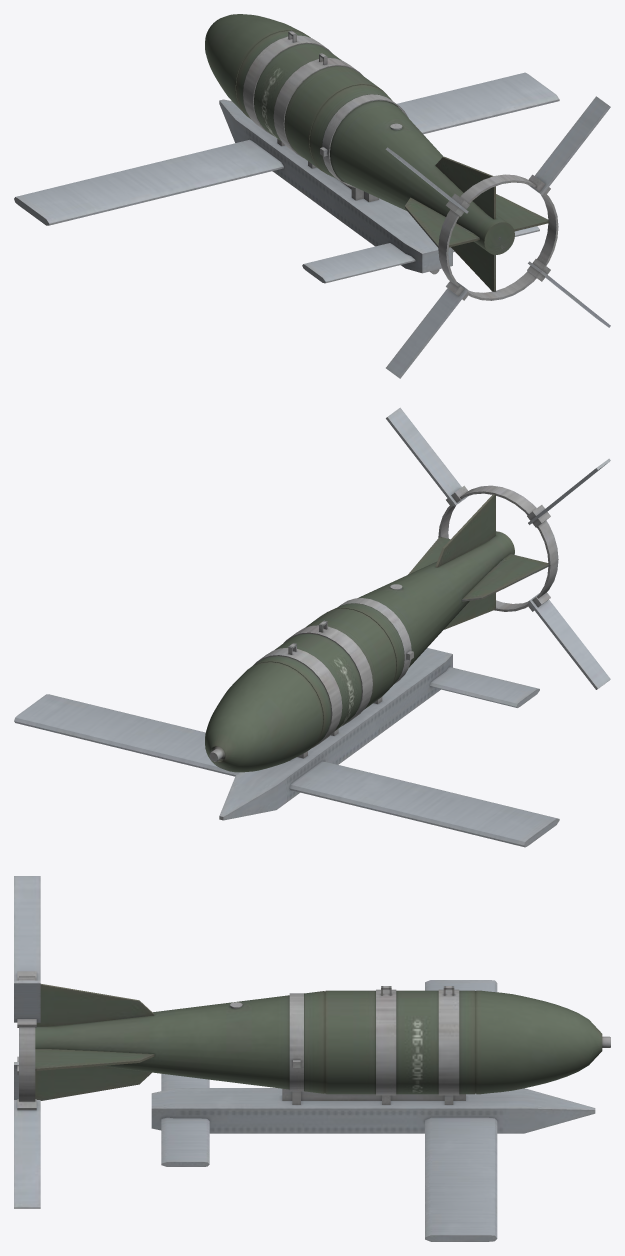
Rendered from w_umpk.glb.
The picture shows the model from 3 angles, top to bottom: view 1: azimuth 30°, elevation 25°; view 2: azimuth 150°, elevation 25°; view 3: azimuth 270°, elevation 25°; orthographic projection. The views are drawn at different scales.
Visible parts, largest first — view 1: body|F50_body, wingA|UMP_sheet, body|UMP_sheet, body|F50_steel, wingB|UMP_sheet; view 2: body|F50_body, wingA|UMP_sheet, body|UMP_sheet, body|F50_steel, wingB|UMP_sheet; view 3: body|F50_body, body|UMP_sheet, wingA|UMP_sheet, body|F50_steel, wingB|UMP_sheet.
Boxes of the visible parts, left/top/right/bottom form: body|F50_body: left=205, top=14, right=549, bottom=291; wingA|UMP_sheet: left=14, top=72, right=559, bottom=225; body|UMP_sheet: left=219, top=96, right=610, bottom=378; body|F50_steel: left=243, top=30, right=558, bottom=300; wingB|UMP_sheet: left=302, top=226, right=539, bottom=283; body|F50_body: left=205, top=494, right=549, bottom=772; wingA|UMP_sheet: left=14, top=694, right=559, bottom=847; body|UMP_sheet: left=219, top=407, right=610, bottom=820; body|F50_steel: left=209, top=485, right=558, bottom=761; wingB|UMP_sheet: left=430, top=667, right=539, bottom=707; body|F50_body: left=35, top=984, right=602, bottom=1100; body|UMP_sheet: left=14, top=876, right=595, bottom=1208; wingA|UMP_sheet: left=425, top=980, right=497, bottom=1241; body|F50_steel: left=17, top=971, right=610, bottom=1110; wingB|UMP_sheet: left=161, top=1073, right=209, bottom=1166.
Size of the model in its own units: 2.5 by 1.04 by 2.47.
5 materials, 5 textured.
